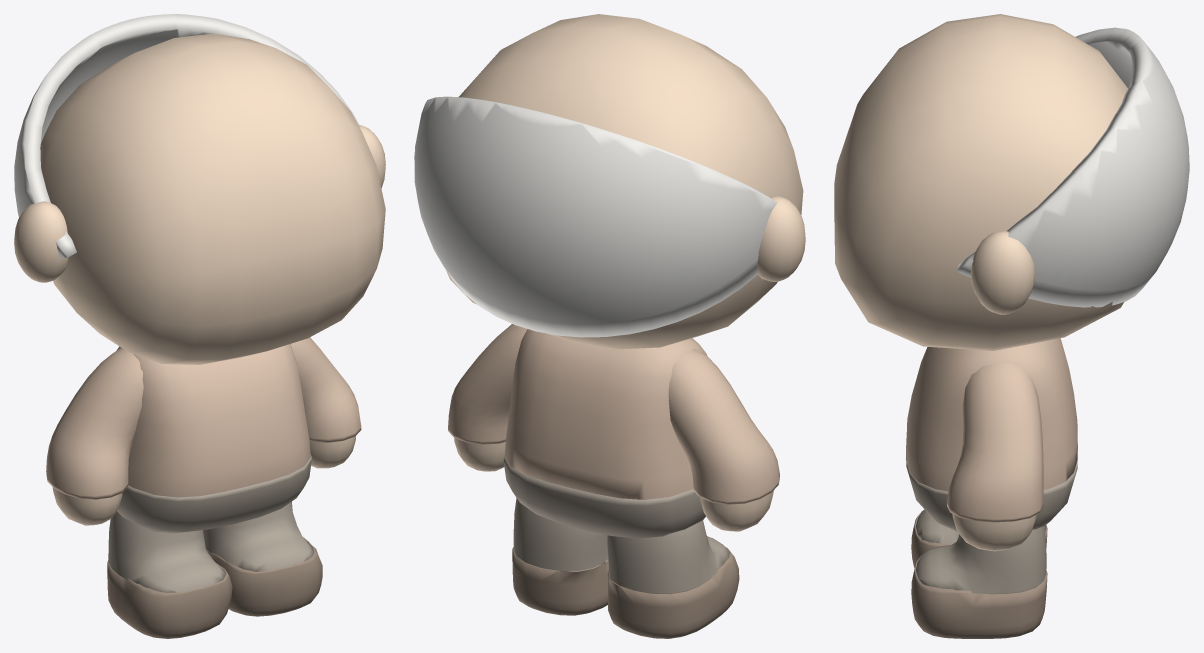
File: npc_mayor.fbx
The picture shows the model from 3 angles, left to right: view 1: azimuth 30°, elevation 25°; view 2: azimuth 150°, elevation 25°; view 3: azimuth 270°, elevation 25°; orthographic projection. The views are drawn at different scales.
Parts seen in each view (by area): view 1: cabeza, camiseta, pelo, camiseta_mangaL, pantalon, pantalon_piernaL, zapatoL, pantalon_piernaR, camiseta_mangaR, zapatoR, orejas, brazoL (+1 smaller); view 2: pelo, cabeza, camiseta, camiseta_mangaL, pantalon, pantalon_piernaL, zapatoL, camiseta_mangaR, pantalon_piernaR, zapatoR, orejas, brazoL (+1 smaller); view 3: cabeza, pelo, camiseta, camiseta_mangaR, zapatoR, pantalon_piernaR, orejas, pantalon, brazoR, pantalon_piernaL, zapatoL.
Boxes of the visible parts, box(x1,y1,x2,y2) form: cabeza: box(40, 33, 385, 364); camiseta: box(116, 344, 310, 497); pelo: box(14, 14, 359, 258); camiseta_mangaL: box(46, 348, 143, 499); pantalon: box(117, 455, 311, 533); pantalon_piernaL: box(108, 511, 225, 592); zapatoL: box(107, 560, 232, 638); pantalon_piernaR: box(203, 501, 313, 571); camiseta_mangaR: box(291, 337, 361, 442); zapatoR: box(206, 538, 322, 616); orejas: box(14, 125, 385, 282); brazoL: box(52, 487, 122, 525); pelo: box(414, 96, 777, 337); cabeza: box(446, 14, 803, 349); camiseta: box(504, 329, 707, 499); camiseta_mangaL: box(668, 349, 779, 504); pantalon: box(503, 455, 705, 538); pantalon_piernaL: box(607, 520, 729, 594); zapatoL: box(607, 547, 739, 638); camiseta_mangaR: box(448, 324, 527, 444); pantalon_piernaR: box(513, 498, 607, 571); zapatoR: box(512, 547, 608, 615); orejas: box(414, 152, 805, 281); brazoL: box(700, 490, 773, 531); cabeza: box(834, 14, 1128, 350); pelo: box(955, 27, 1189, 307); camiseta: box(906, 338, 1077, 491); camiseta_mangaR: box(947, 363, 1043, 522); zapatoR: box(911, 555, 1047, 638); pantalon_piernaR: box(916, 526, 1046, 594); orejas: box(970, 231, 1035, 314); pantalon: box(906, 438, 1077, 531); brazoR: box(952, 513, 1036, 551); pantalon_piernaL: box(916, 509, 1046, 543); zapatoL: box(911, 510, 1047, 567).
Bounding box in the file's own units: 2.93 × 4.26 × 2.41.
